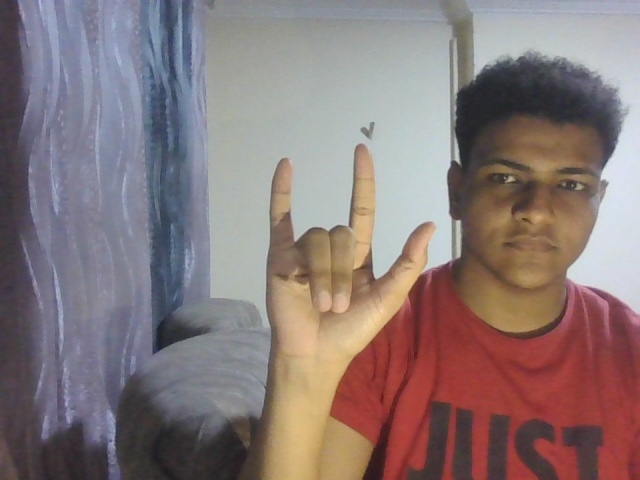iloveyou: (255, 141, 442, 357)
